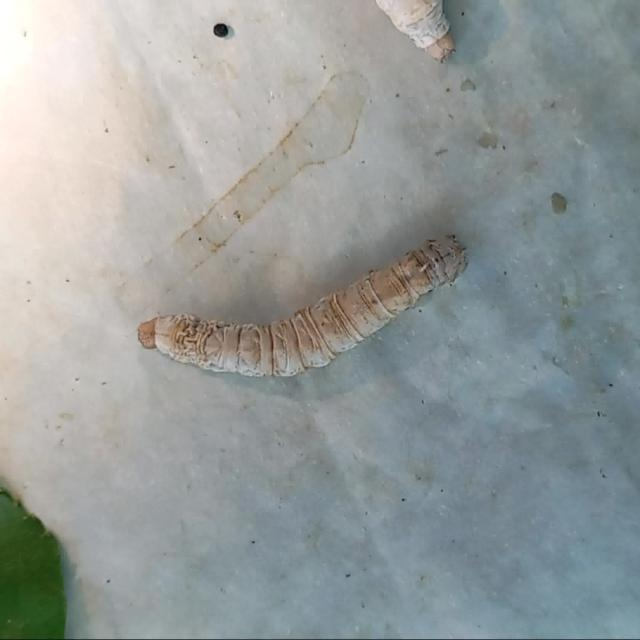Grasserie: (97, 200, 530, 442)
